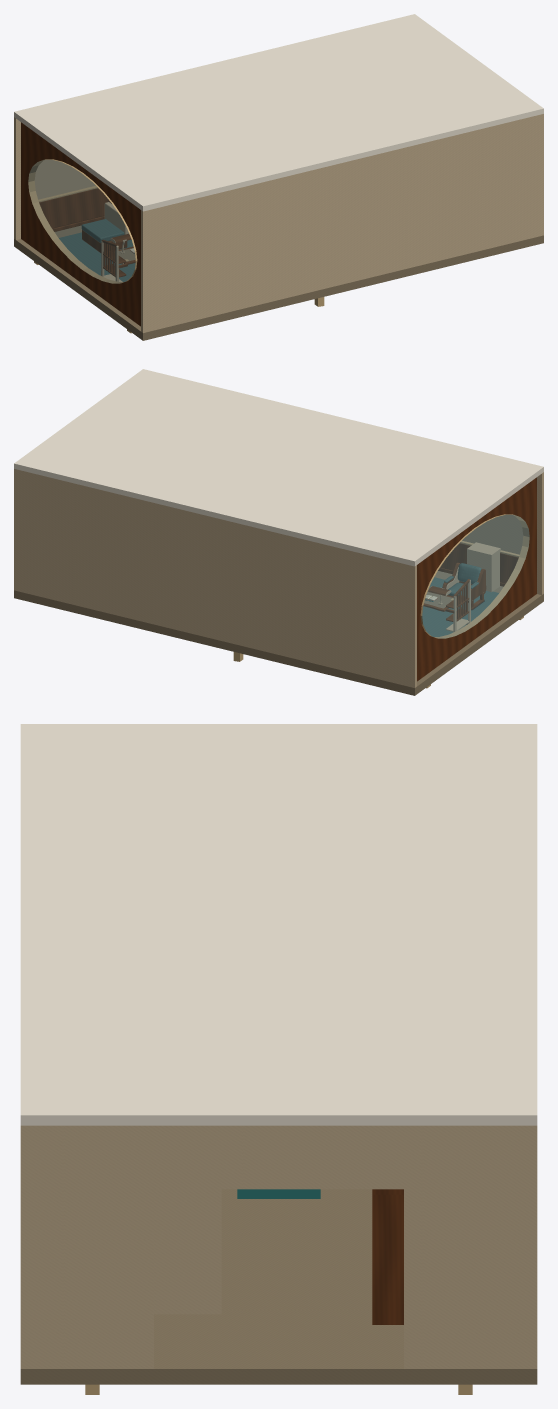
File: NG422_AtriumInterior_r001.glb
The picture shows the model from 3 angles, top to bottom: view 1: azimuth 30°, elevation 25°; view 2: azimuth 150°, elevation 25°; view 3: azimuth 270°, elevation 25°; orthographic projection. The views are drawn at different scales.
Parts seen in each view (by area): view 1: NG422_RuntimeBatch_001, NG422_OvalAtriumGlass, NG422_RuntimeBatch_002, NG422_RoomFloor, NGA_422_South_LowPanel, NG422_RuntimeBatch_004, NGA_422_OutlookFloorInlay, NGA_422_ViewSeat_Cushion, NG422_RuntimeBatch_026; view 2: NG422_RuntimeBatch_001, NG422_OvalAtriumGlass, NG422_RuntimeBatch_002, NG422_RoomFloor, NG422_RuntimeBatch_004, NGA_422_OutlookFloorInlay, NGA_422_North_LowPanel, NG422_RuntimeBatch_026, NG422_RuntimeBatch_052, NG422_RuntimeBatch_047; view 3: NG422_RuntimeBatch_001, NG422_RoomFloor, NG422_RuntimeBatch_002, NG422_RuntimeBatch_010.
Boxes of the visible parts, bbox=[...] form: NG422_RuntimeBatch_001: bbox=[14, 14, 543, 332]; NG422_OvalAtriumGlass: bbox=[28, 160, 135, 283]; NG422_RuntimeBatch_002: bbox=[21, 122, 140, 326]; NG422_RoomFloor: bbox=[14, 225, 543, 340]; NGA_422_South_LowPanel: bbox=[39, 188, 111, 228]; NG422_RuntimeBatch_004: bbox=[28, 159, 324, 333]; NGA_422_OutlookFloorInlay: bbox=[59, 232, 135, 281]; NGA_422_ViewSeat_Cushion: bbox=[81, 219, 124, 242]; NG422_RuntimeBatch_026: bbox=[101, 239, 135, 277]; NG422_RuntimeBatch_001: bbox=[14, 369, 543, 687]; NG422_OvalAtriumGlass: bbox=[422, 515, 529, 638]; NG422_RuntimeBatch_002: bbox=[417, 477, 536, 681]; NG422_RoomFloor: bbox=[14, 571, 543, 695]; NG422_RuntimeBatch_004: bbox=[233, 514, 529, 688]; NGA_422_OutlookFloorInlay: bbox=[422, 577, 498, 636]; NGA_422_North_LowPanel: bbox=[440, 543, 518, 583]; NG422_RuntimeBatch_026: bbox=[423, 579, 469, 621]; NG422_RuntimeBatch_052: bbox=[448, 563, 481, 595]; NG422_RuntimeBatch_047: bbox=[442, 563, 486, 609]; NG422_RuntimeBatch_001: bbox=[20, 724, 537, 1368]; NG422_RoomFloor: bbox=[20, 1189, 537, 1384]; NG422_RuntimeBatch_002: bbox=[372, 1189, 403, 1324]; NG422_RuntimeBatch_010: bbox=[237, 1189, 320, 1198].
Bounding box in the file's own units: 12.9 × 4.91 × 7.2.
39 materials, 20 textured.
